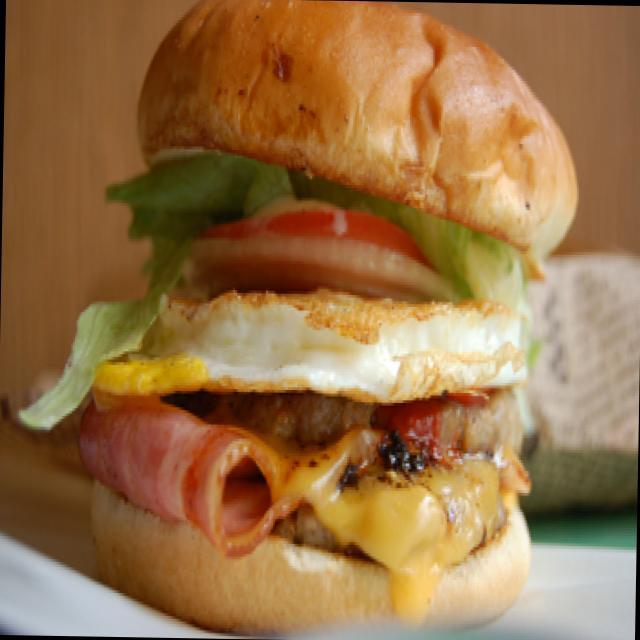Hamburger: (86, 0, 585, 640)
